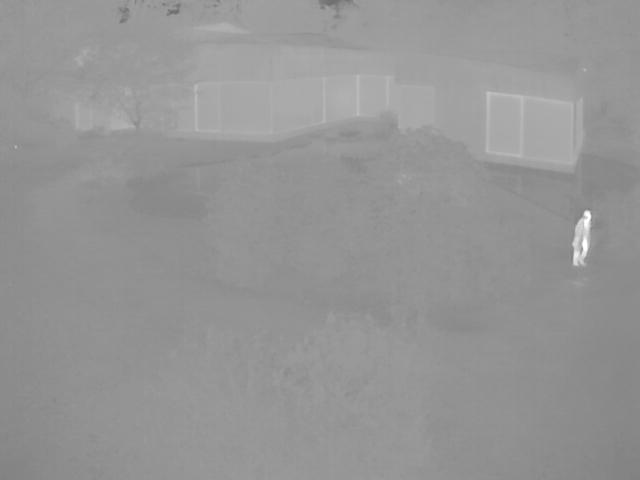person: (572, 209, 595, 264)
